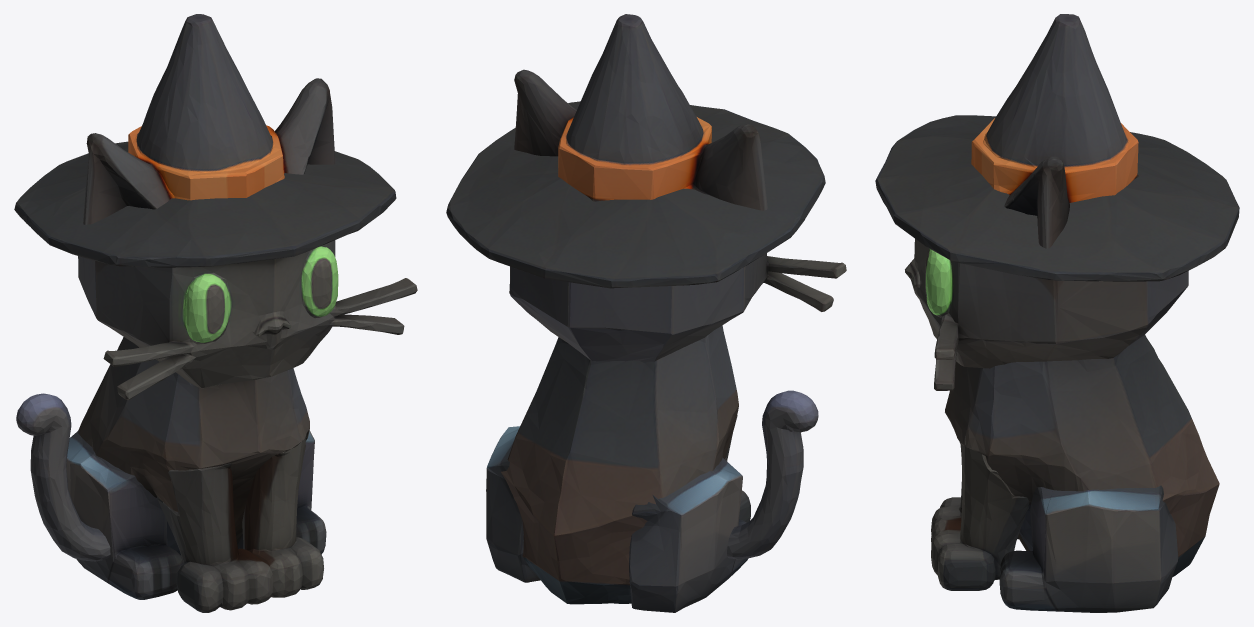
Rendered from black-cat.glb.
3 views of the same model, side by side, from view 1: azimuth 30°, elevation 25°; view 2: azimuth 150°, elevation 25°; view 3: azimuth 270°, elevation 25° (orthographic).
Parts seen in each view (by area): view 1: BlackCat_head, BlackCat_body, BlackCat_rear left leg, BlackCat_front left leg, BlackCat_front right leg, BlackCat_tail, BlackCat_rear right leg; view 2: BlackCat_body, BlackCat_head, BlackCat_rear left leg, BlackCat_tail, BlackCat_rear right leg; view 3: BlackCat_body, BlackCat_head, BlackCat_rear right leg, BlackCat_front right leg, BlackCat_front left leg.
Boxes of the visible parts, x1,y1,x2,y2 form: BlackCat_head: (78,14,417,399); BlackCat_body: (14,141,396,555); BlackCat_rear left leg: (66,431,183,599); BlackCat_front left leg: (157,463,273,612); BlackCat_front right leg: (242,433,323,597); BlackCat_tail: (16,393,110,561); BlackCat_rear right leg: (296,430,326,554); BlackCat_body: (446,101,825,604); BlackCat_head: (509,14,846,361); BlackCat_rear left leg: (629,457,748,612); BlackCat_tail: (727,390,818,559); BlackCat_rear right leg: (486,426,540,582); BlackCat_body: (875,115,1239,576); BlackCat_head: (905,14,1188,390); BlackCat_rear right leg: (999,485,1178,612); BlackCat_front right leg: (931,436,1029,590); BlackCat_front left leg: (931,482,962,547).
Bounding box in the file's own units: 4.36 × 6.63 × 4.
Materials: 7 (7 with a texture image).
